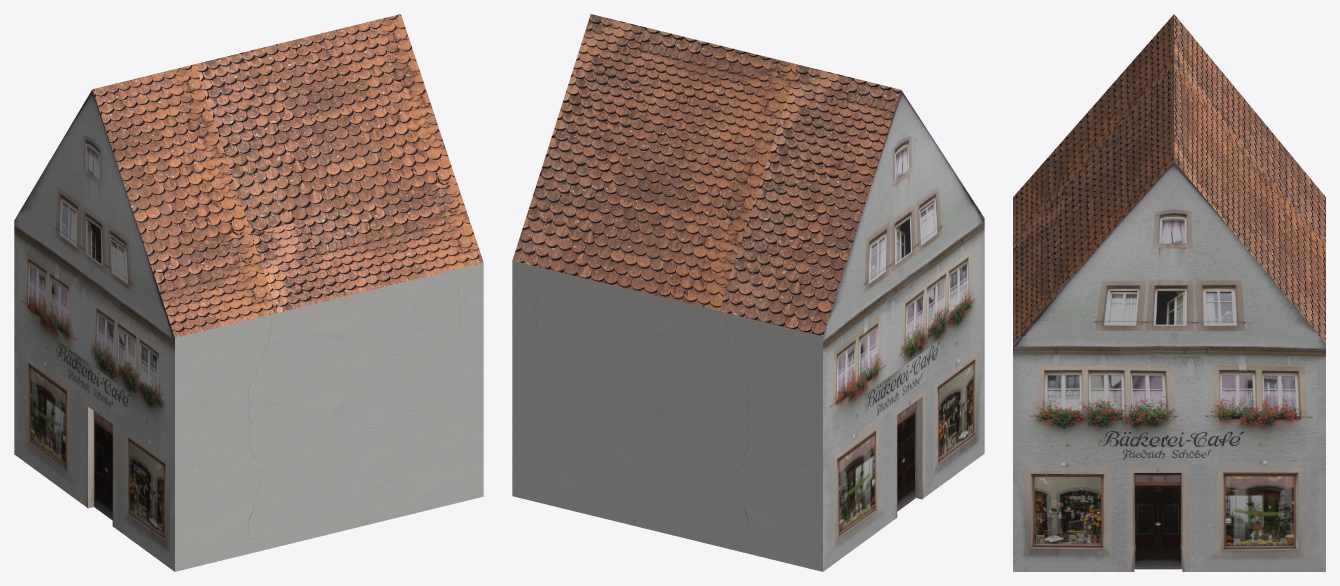
The model's file is old_city_house_bakery.obj.
3 renders of one model, left to right at view 1: azimuth 30°, elevation 25°; view 2: azimuth 150°, elevation 25°; view 3: azimuth 270°, elevation 25°, orthographic. The views are drawn at different scales.
Visible parts, largest first — view 1: old_house_bakery; view 2: old_house_bakery; view 3: old_house_bakery.
Part boxes in pixels (box(x1,y1,x2,y2)): old_house_bakery: box(14, 14, 483, 571); old_house_bakery: box(512, 14, 984, 571); old_house_bakery: box(1013, 14, 1325, 571).
Bounding box in the file's own units: 8.65 × 11.3 × 7.79.
Materials: 2 (2 with a texture image).
